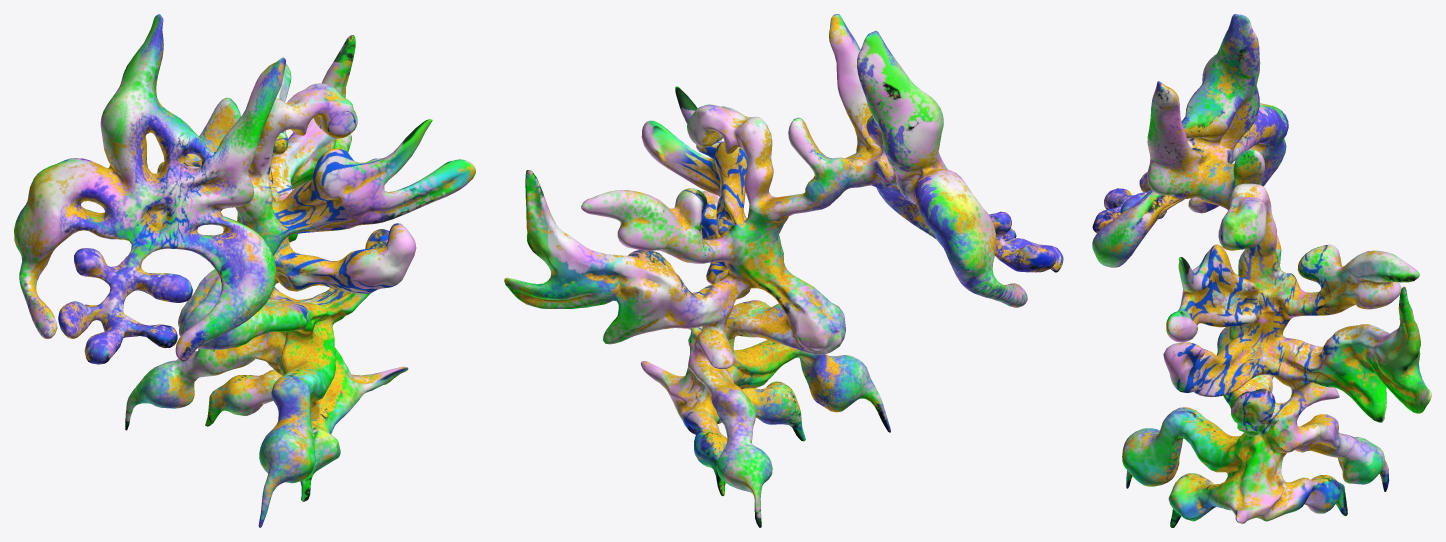
Rendered from shr-orchid.glb.
3 renders of one model, left to right at view 1: azimuth 30°, elevation 25°; view 2: azimuth 150°, elevation 25°; view 3: azimuth 270°, elevation 25°, orthographic. The views are drawn at different scales.
Parts seen in each view (by area): view 1: geometry_0; view 2: geometry_0; view 3: geometry_0.
Part boxes in pixels (x1,y1,x2,y2): geometry_0: (14, 14, 475, 527); geometry_0: (504, 14, 1063, 527); geometry_0: (1092, 14, 1431, 527).
Bounding box in the file's own units: 0.9392 × 1 × 0.6654.
1 material, 1 textured.
